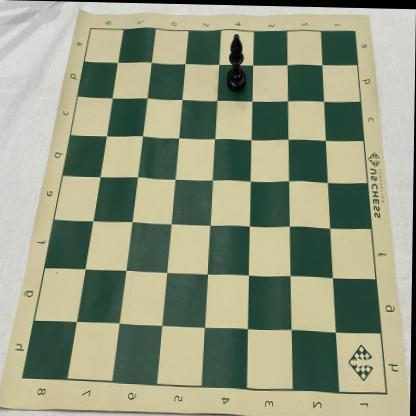black-bishop: (225, 32, 247, 92)
